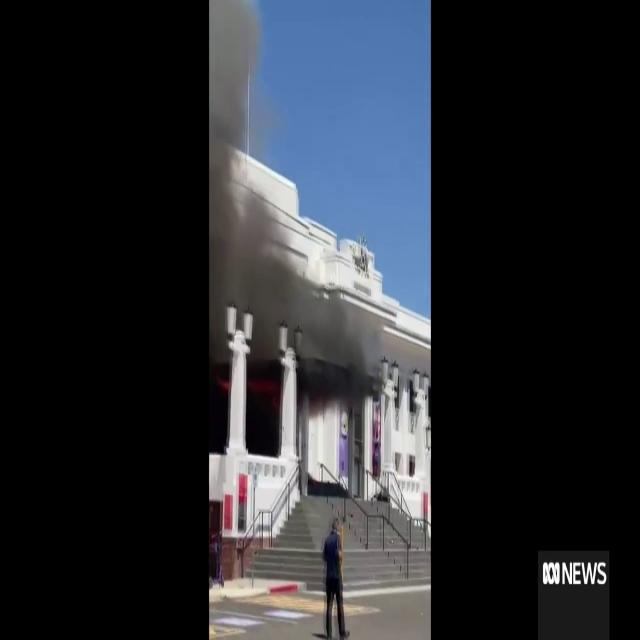Smoke: (208, 0, 290, 332), (283, 270, 382, 420)
